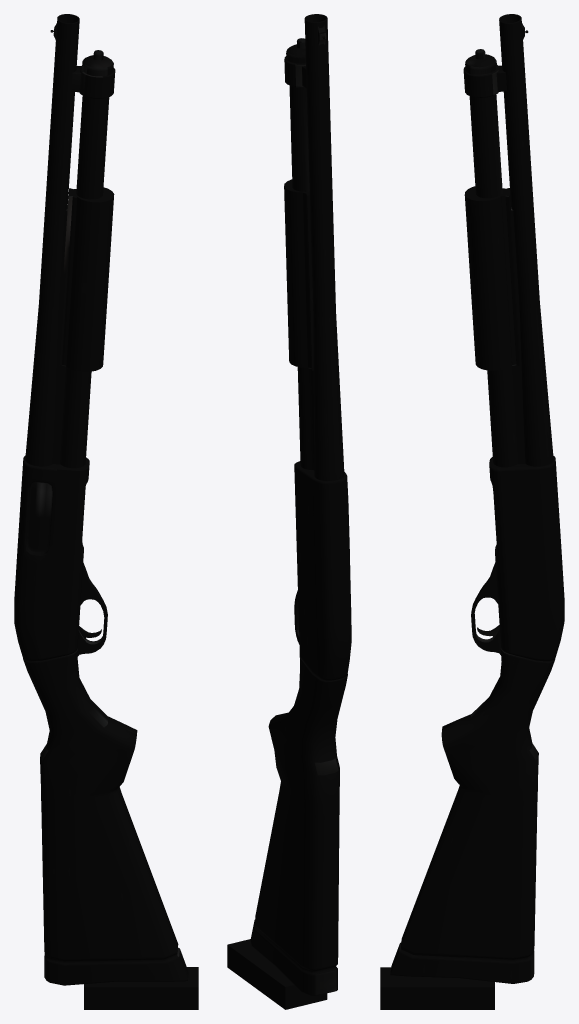
Rendered from Rem870__Mount_ScopeBase__RecoilPad_Rubber.fbx.
3 renders of one model, left to right at view 1: azimuth 90°, elevation 25°; view 2: azimuth 210°, elevation 25°; view 3: azimuth 270°, elevation 25°, orthographic.
Visible parts, largest first — view 1: asset_Rem870.001; view 2: asset_Rem870.001; view 3: asset_Rem870.001.
Boxes of the visible parts, box(x1,y1,x2,y2) form: asset_Rem870.001: box(14, 14, 198, 1009); asset_Rem870.001: box(227, 14, 351, 1009); asset_Rem870.001: box(380, 14, 564, 1009).
Bounding box in the file's own units: 0.029 × 0.651 × 0.1108.
